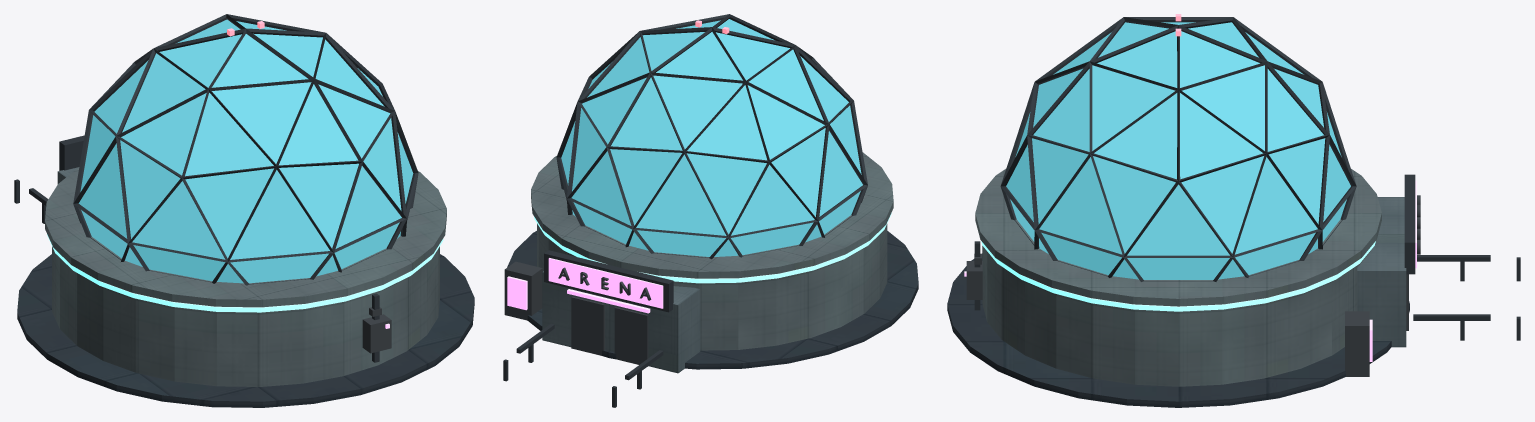
The model's file is synthwave-dome.glb.
3 renders of one model, left to right at view 1: azimuth 30°, elevation 25°; view 2: azimuth 150°, elevation 25°; view 3: azimuth 270°, elevation 25°, orthographic. The views are drawn at different scales.
Parts seen in each view (by area): view 1: DomeGlassShell, Dome_Body2, Dome_Frame, Plaza, RimGlow, Dome_Door; view 2: DomeGlassShell, Dome_Body2, Dome_Frame, Plaza, EntryMass, Dome_Door, MarqPanel, RimGlow, Dome_DimB, EntryLamp; view 3: DomeGlassShell, Dome_Body2, Dome_Frame, Plaza, EntryMass, Dome_Door, RimGlow.
Part boxes in pixels (x1,y1,x2,y2): DomeGlassShell: (78,19,413,283); Dome_Body2: (45,167,446,386); Dome_Frame: (14,14,418,362); Plaza: (17,254,474,407); RimGlow: (47,234,443,312); Dome_Door: (362,307,391,353); DomeGlassShell: (561,19,862,256); Dome_Body2: (531,152,893,350); Dome_Frame: (503,14,867,407); Plaza: (507,231,918,369); EntryMass: (542,271,700,373); Dome_Door: (504,261,651,366); MarqPanel: (548,258,663,308); RimGlow: (534,213,891,283); Dome_DimB: (507,276,527,310); EntryLamp: (567,289,650,313); DomeGlassShell: (1006,22,1350,279); Dome_Body2: (975,169,1381,386); Dome_Frame: (974,17,1520,340); Plaza: (947,253,1409,407); EntryMass: (1357,197,1406,347); Dome_Door: (966,195,1420,376); RimGlow: (981,241,1375,311).
Size of the model in its own units: 1.32 by 0.9055 by 1.64.
Materials: 12 (3 with a texture image).
